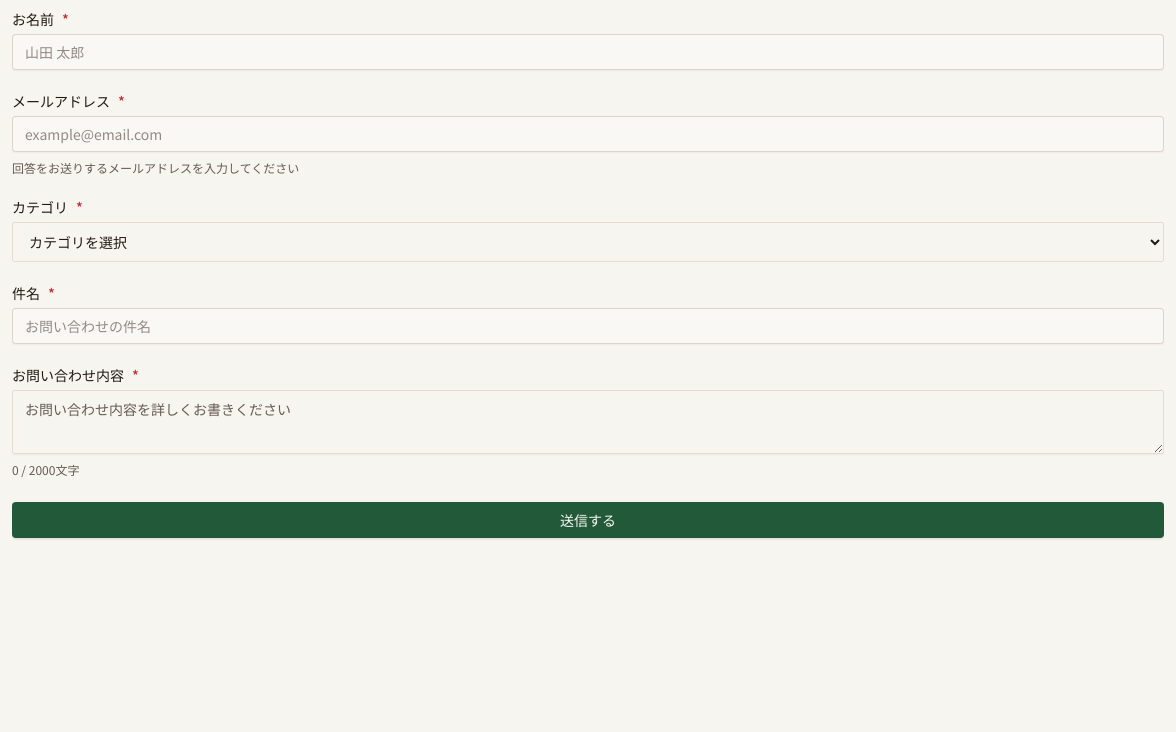
Test: ContactForm › バリデーション › お名前が空の場合エラーを表示する
The image size is (1176, 732).
Click the button "送信する" at (588, 520), box [12, 502, 1164, 538]
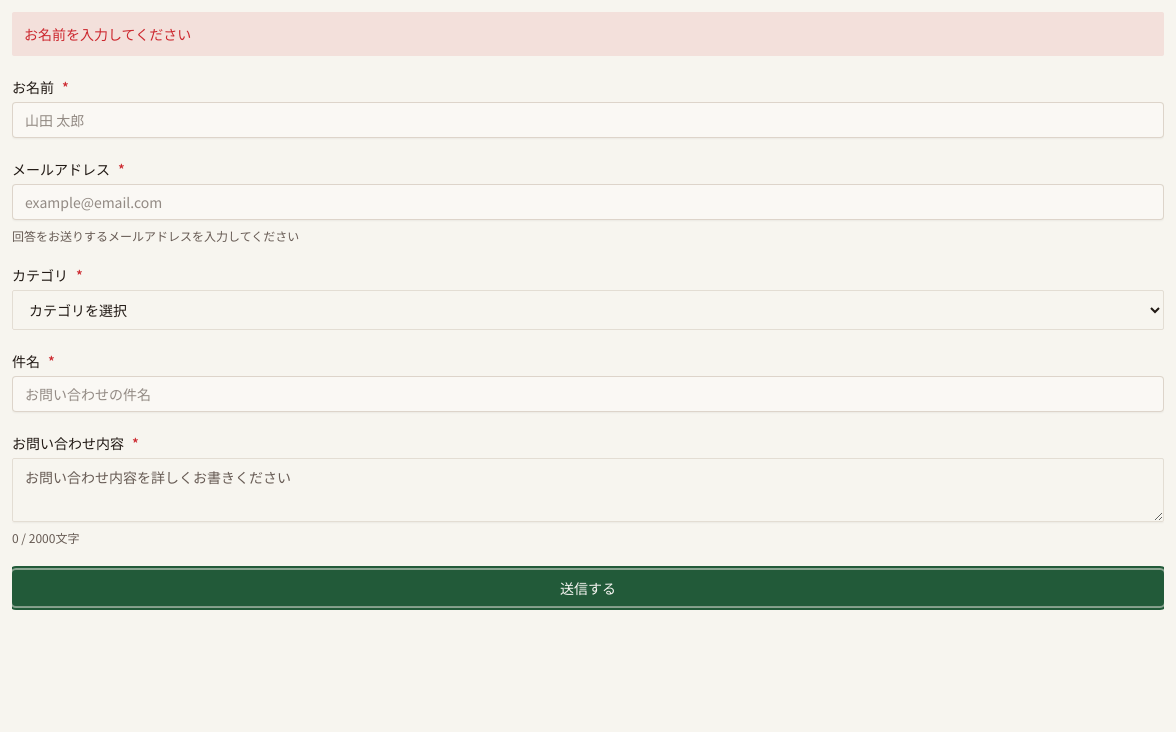
Now the text "お名前を入力してください" is shown, box [12, 12, 1164, 56]
